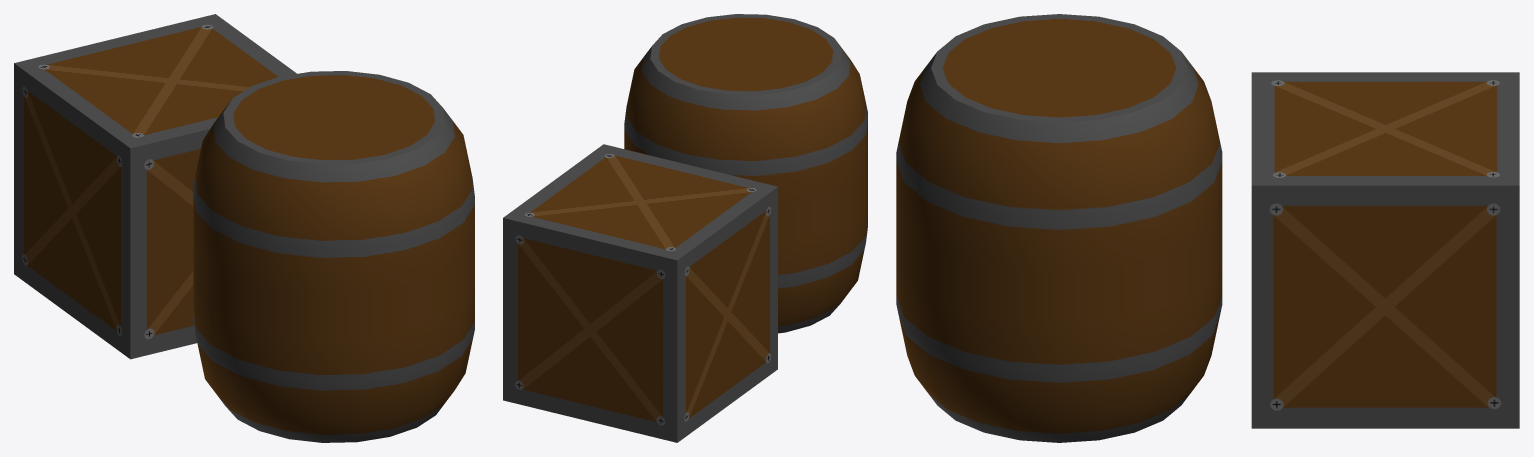
The model's file is Barrel and crate.fbx.
3 views of the same model, side by side, from view 1: azimuth 30°, elevation 25°; view 2: azimuth 150°, elevation 25°; view 3: azimuth 270°, elevation 25° (orthographic). The views are drawn at different scales.
Parts seen in each view (by area): view 1: pCylinder5, pCube38; view 2: pCube38, pCylinder5; view 3: pCylinder5, pCube38.
Boxes of the visible parts, left/top/right/bottom form: pCylinder5: left=193, top=71, right=474, bottom=442; pCube38: left=14, top=14, right=296, bottom=359; pCube38: left=503, top=144, right=777, bottom=442; pCylinder5: left=624, top=14, right=867, bottom=333; pCylinder5: left=896, top=14, right=1222, bottom=442; pCube38: left=1251, top=72, right=1519, bottom=428.
Size of the model in its own units: 0.3592 by 0.3899 by 0.6869.
2 materials, 2 textured.
